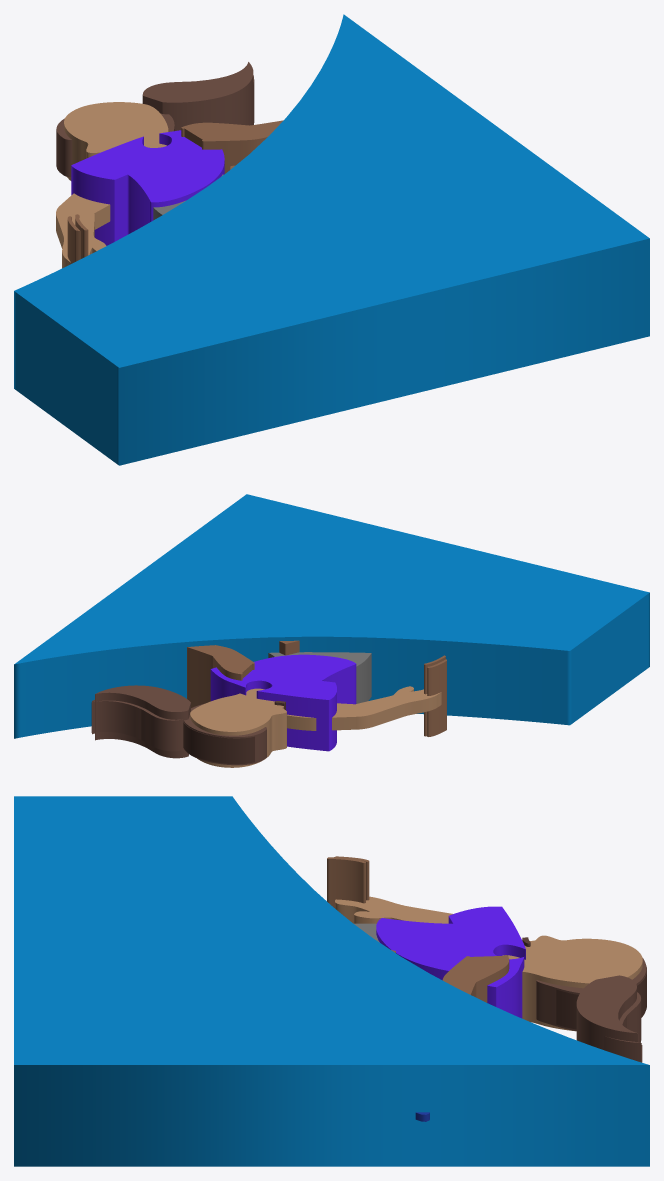
The model's file is emoji_u1f3c4_1f3fd_200d_2640.glb.
The picture shows the model from 3 angles, top to bottom: view 1: azimuth 30°, elevation 25°; view 2: azimuth 150°, elevation 25°; view 3: azimuth 270°, elevation 25°; orthographic projection. The views are drawn at different scales.
Parts seen in each view (by area): view 1: emoji_u1f3c4_1f3fd_200d_2640; view 2: emoji_u1f3c4_1f3fd_200d_2640; view 3: emoji_u1f3c4_1f3fd_200d_2640.
Part boxes in pixels (bbox=[...]): emoji_u1f3c4_1f3fd_200d_2640: bbox=[14, 14, 649, 465]; emoji_u1f3c4_1f3fd_200d_2640: bbox=[14, 494, 649, 767]; emoji_u1f3c4_1f3fd_200d_2640: bbox=[14, 796, 649, 1166].
Bounding box in the file's own units: 0.0332 × 0.0058 × 0.0329.
